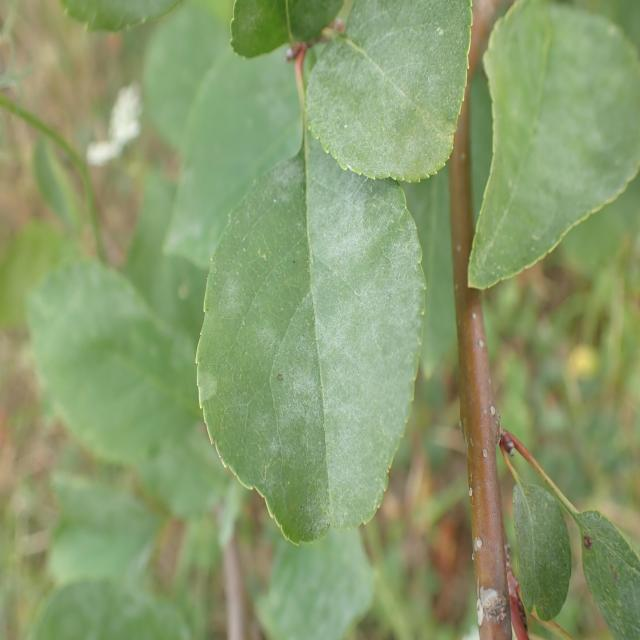Powdery_mildew: (197, 117, 427, 604), (464, 2, 608, 297), (306, 0, 464, 193)
